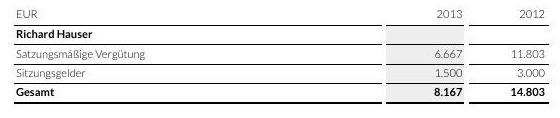table: (0, 0, 560, 118)
